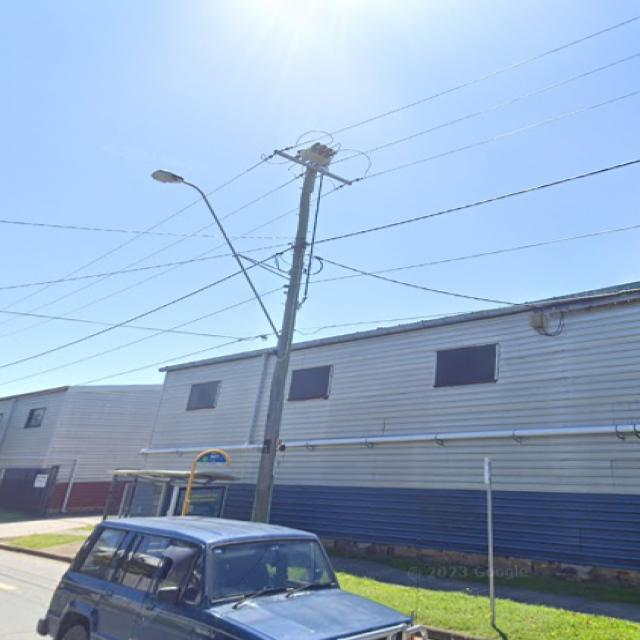HV-switch: (294, 141, 339, 166)
HV-transmission: (265, 145, 364, 190)
crossarm: (272, 148, 354, 186)
streetlight: (150, 168, 284, 340)
timber-pole: (250, 166, 318, 524)
